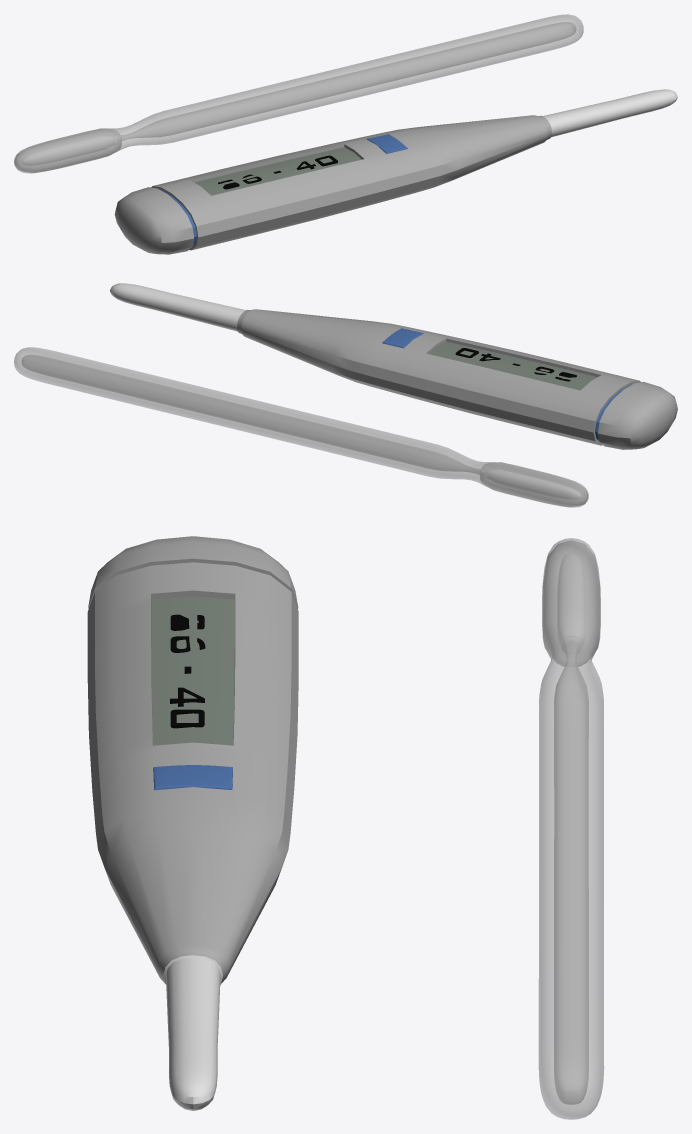
File: termo_meter.fbx
3 views of the same model, one above another, from view 1: azimuth 30°, elevation 25°; view 2: azimuth 150°, elevation 25°; view 3: azimuth 270°, elevation 25° (orthographic). The views are drawn at different scales.
Visible parts, largest first — view 1: termo_merter_digital, terom_metet, terom_metet1, typeMesh1; view 2: termo_merter_digital, terom_metet, terom_metet1, typeMesh1; view 3: termo_merter_digital, terom_metet, terom_metet1, typeMesh1.
Boxes of the visible parts, x1,y1,x2,y2 form: termo_merter_digital: (114,89,677,254); terom_metet: (14,14,583,173); terom_metet1: (21,22,575,165); typeMesh1: (218,155,337,189); termo_merter_digital: (110,283,677,449); terom_metet: (14,347,588,507); terom_metet1: (22,355,580,499); typeMesh1: (455,348,576,381); termo_merter_digital: (87,536,298,1110); terom_metet: (538,538,604,1119); terom_metet1: (554,553,588,1104); typeMesh1: (170,614,205,728).
Bounding box in the file's own units: 13.79 × 1.14 × 5.43.
